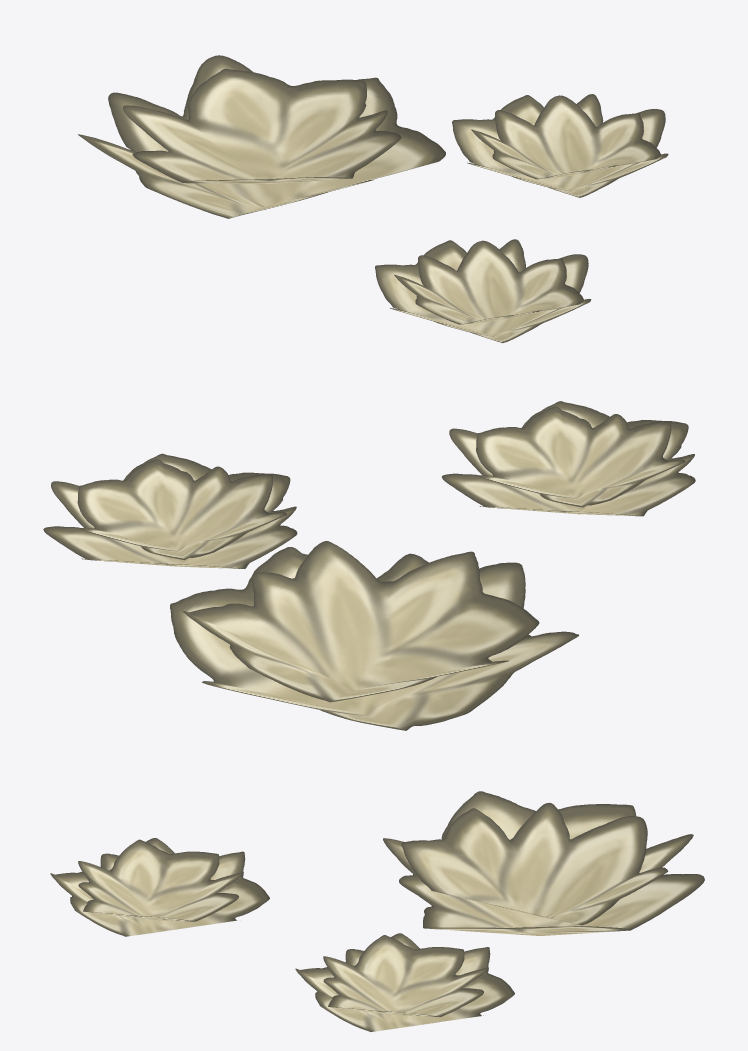
Rendered from white flower1.FBX.
3 renders of one model, top to bottom at view 1: azimuth 30°, elevation 25°; view 2: azimuth 150°, elevation 25°; view 3: azimuth 270°, elevation 25°, orthographic. The views are drawn at different scales.
Visible parts, largest first — view 1: white flower; view 2: white flower; view 3: white flower.
Boxes of the visible parts, x1=… form: white flower: x1=78, y1=55, x2=668, y2=343; white flower: x1=43, y1=401, x2=695, y2=730; white flower: x1=50, y1=791, x2=704, y2=1031.
Size of the model in its own units: 148 by 24.23 by 181.
1 material, 1 textured.
